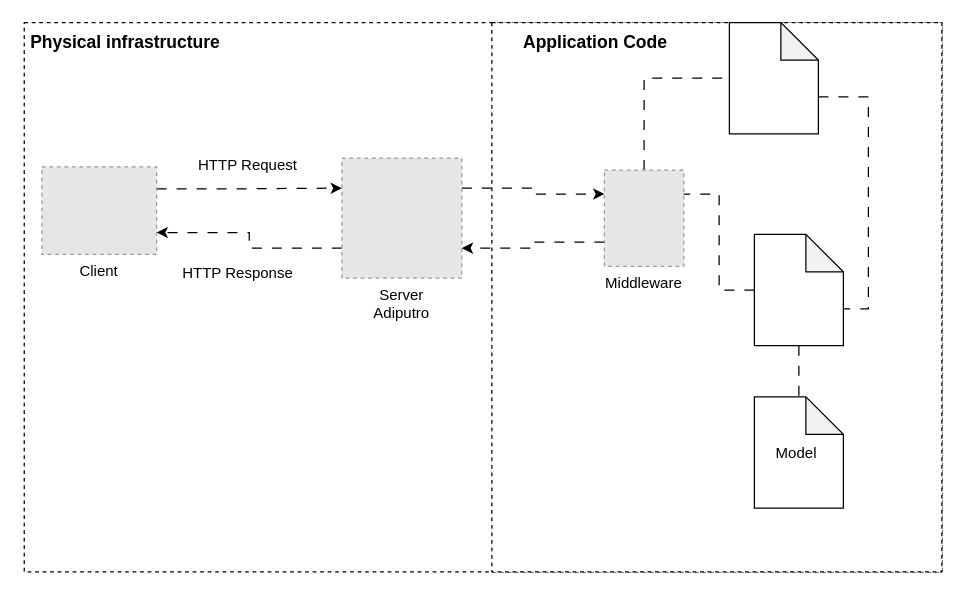
This 964x594 diagram has some shape labels left out. Grey dashed boxes stand in for pictures. Here are the shapes that lost their labels. From the top down, the centre of each, then its label:
At [773,77]: "Route".
At [798,289]: "Controller".
